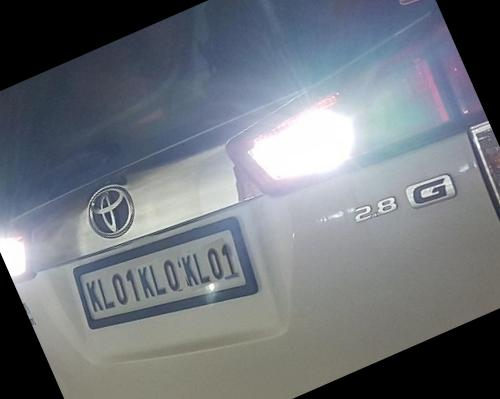plate: (60, 187, 285, 366)
